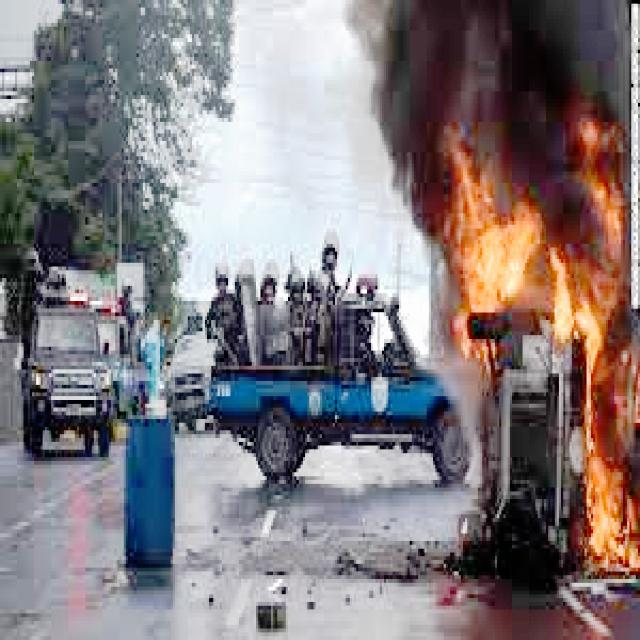api: (426, 123, 633, 367), (547, 386, 639, 572)
